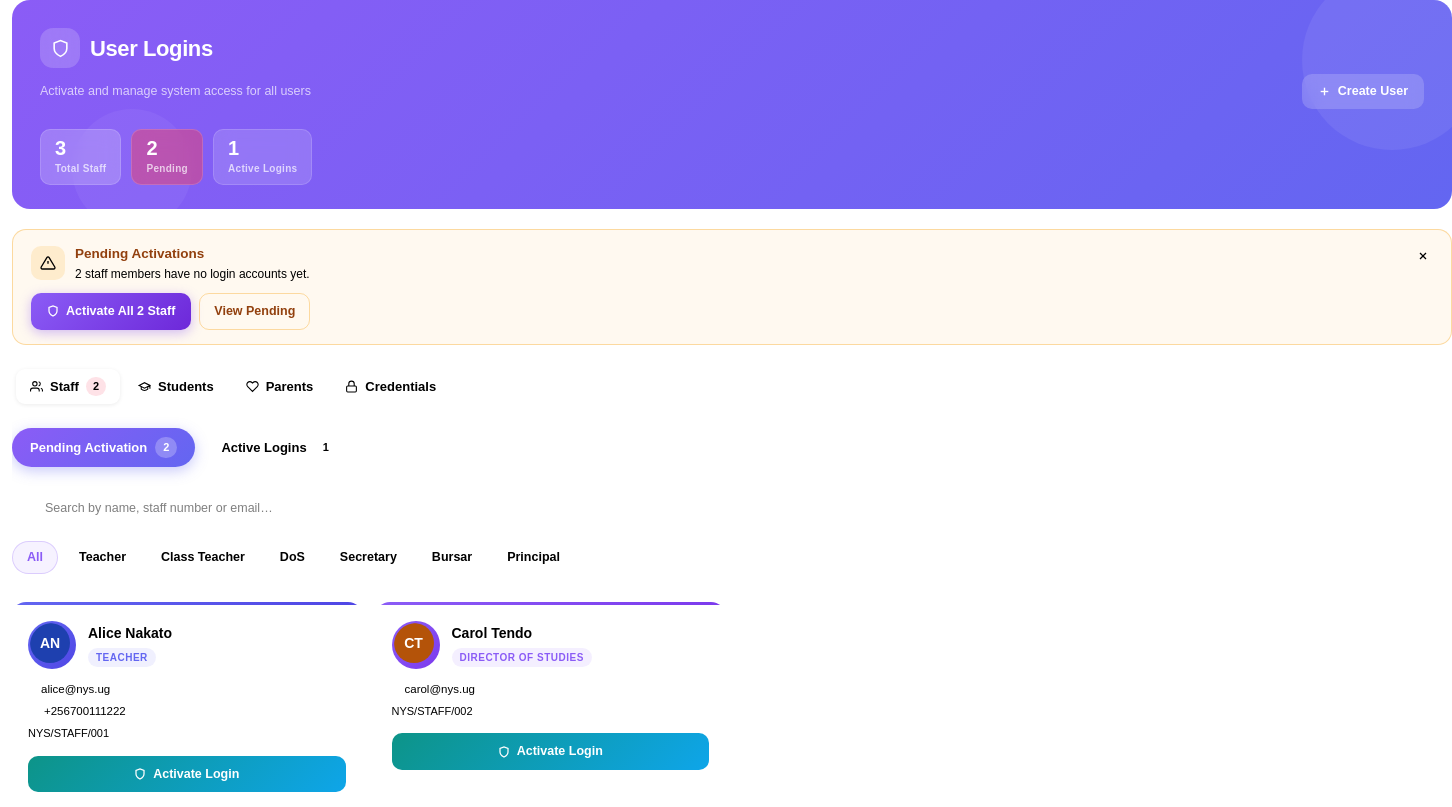
Test: AdminUsersPage › clicking Active Logins sub-tab shows active staff with Reset Password button
Click the button "Active Logins 1" at (279, 448), box [203,428,355,467]
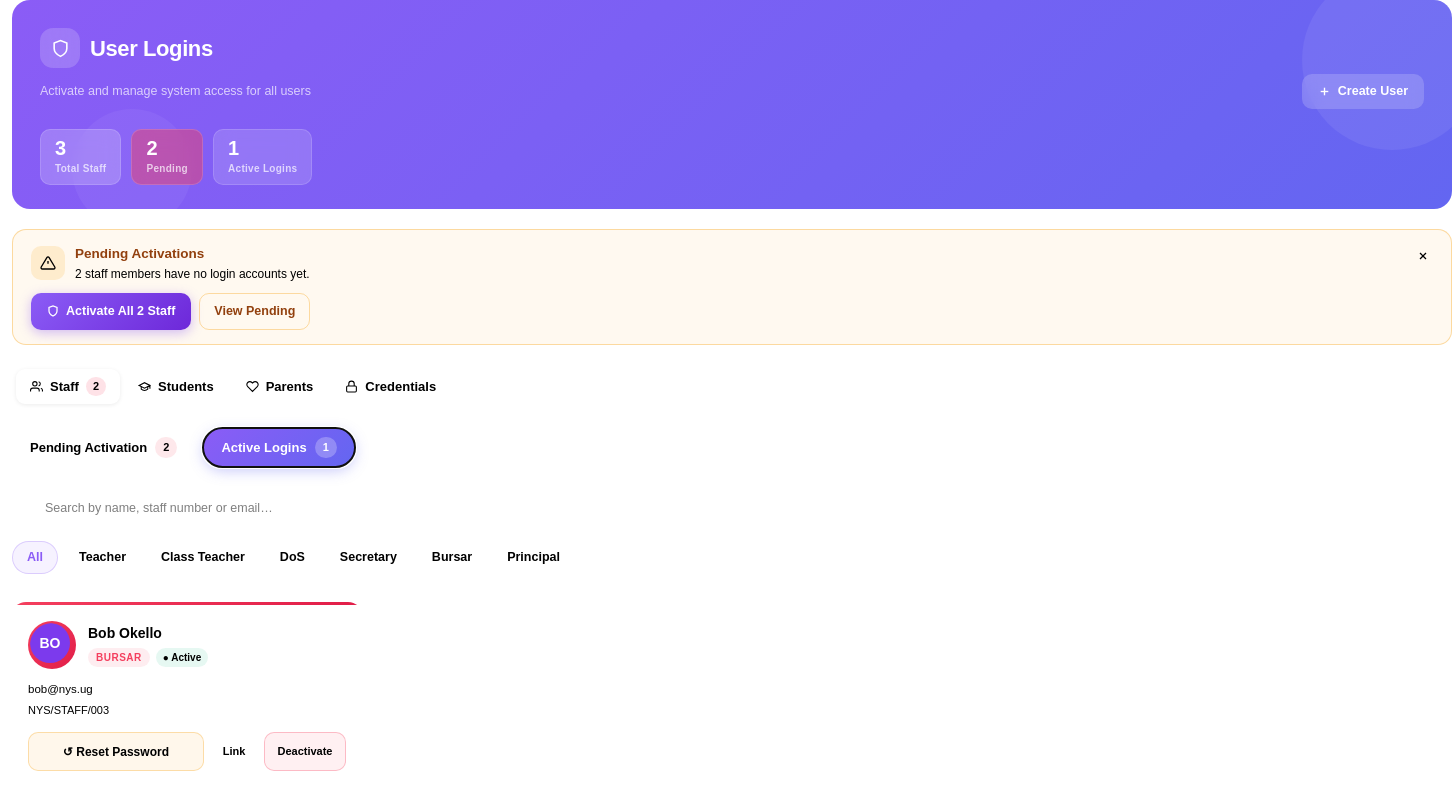
Now the text "Bob Okello" is shown, box [88,624,162,640]
Now the button "↺ Reset Password" is shown, box [28,732,204,771]
